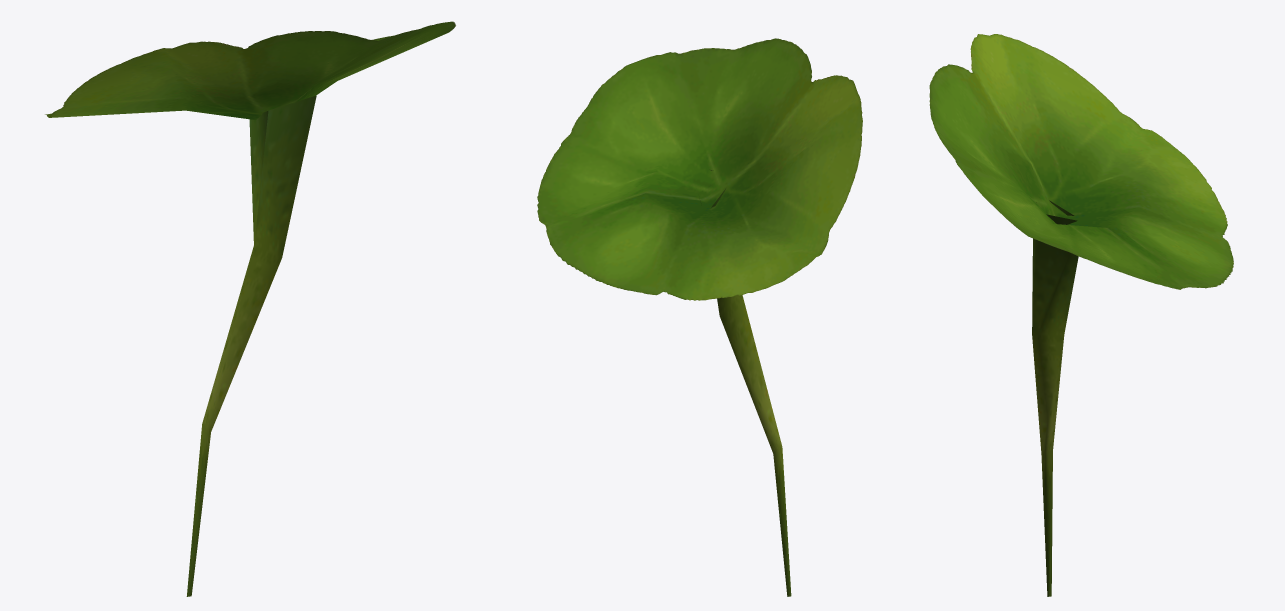
Rendered from LotusL04.FBX.
3 renders of one model, left to right at view 1: azimuth 30°, elevation 25°; view 2: azimuth 150°, elevation 25°; view 3: azimuth 270°, elevation 25°, orthographic. The views are drawn at different scales.
Parts seen in each view (by area): view 1: Lotus04; view 2: Lotus04; view 3: Lotus04.
Part boxes in pixels (x1=…): Lotus04: x1=45, y1=21, x2=455, y2=596; Lotus04: x1=537, y1=38, x2=862, y2=596; Lotus04: x1=929, y1=34, x2=1233, y2=596.
Bounding box in the file's own units: 122 × 104 × 173.
1 material, 1 textured.
